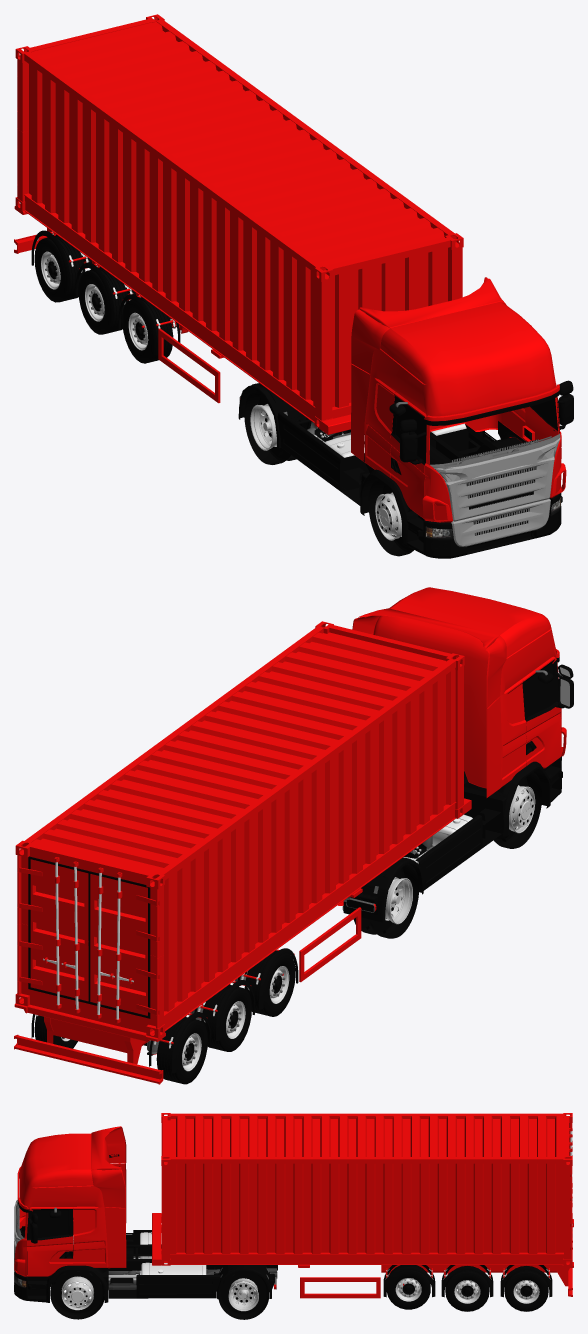
Rendered from scania.glb.
3 views of the same model, one above another, from view 1: azimuth 30°, elevation 25°; view 2: azimuth 150°, elevation 25°; view 3: azimuth 270°, elevation 25° (orthographic). The views are drawn at different scales.
Parts seen in each view (by area): view 1: Object_852, Object_105, Object_37, Object_237, Object_68, Object_41, Object_329, Object_277, Object_29, Object_358; view 2: Object_852, Object_37, Object_105, Object_358, Object_68, Object_41, Object_329; view 3: Object_852, Object_37, Object_105, Object_68, Object_41, Object_329, Object_358, Object_29, Object_35.
Part boxes in pixels (<box>): Object_852: <box>14,14,463,434</box>; Object_105: <box>240,277,566,522</box>; Object_37: <box>31,230,573,558</box>; Object_237: <box>434,437,560,546</box>; Object_68: <box>390,392,558,518</box>; Object_41: <box>250,404,401,540</box>; Object_329: <box>41,251,343,442</box>; Object_277: <box>451,439,538,535</box>; Object_29: <box>239,396,560,468</box>; Object_358: <box>37,231,466,457</box>; Object_852: <box>14,621,471,1084</box>; Object_37: <box>28,657,573,1084</box>; Object_105: <box>353,587,566,911</box>; Object_358: <box>36,814,472,1048</box>; Object_68: <box>352,618,561,768</box>; Object_41: <box>385,785,534,924</box>; Object_329: <box>61,846,426,1071</box>; Object_852: <box>152,1113,573,1298</box>; Object_37: <box>14,1123,569,1319</box>; Object_105: <box>14,1126,276,1289</box>; Object_68: <box>27,1127,126,1276</box>; Object_41: <box>61,1236,258,1311</box>; Object_329: <box>395,1278,539,1303</box>; Object_358: <box>140,1131,572,1286</box>; Object_29: <box>16,1202,277,1289</box>; Object_35: <box>62,1278,256,1309</box>.
Bounding box in the file's own units: 1.17 × 1.56 × 4.89.
26 materials, 5 textured.
